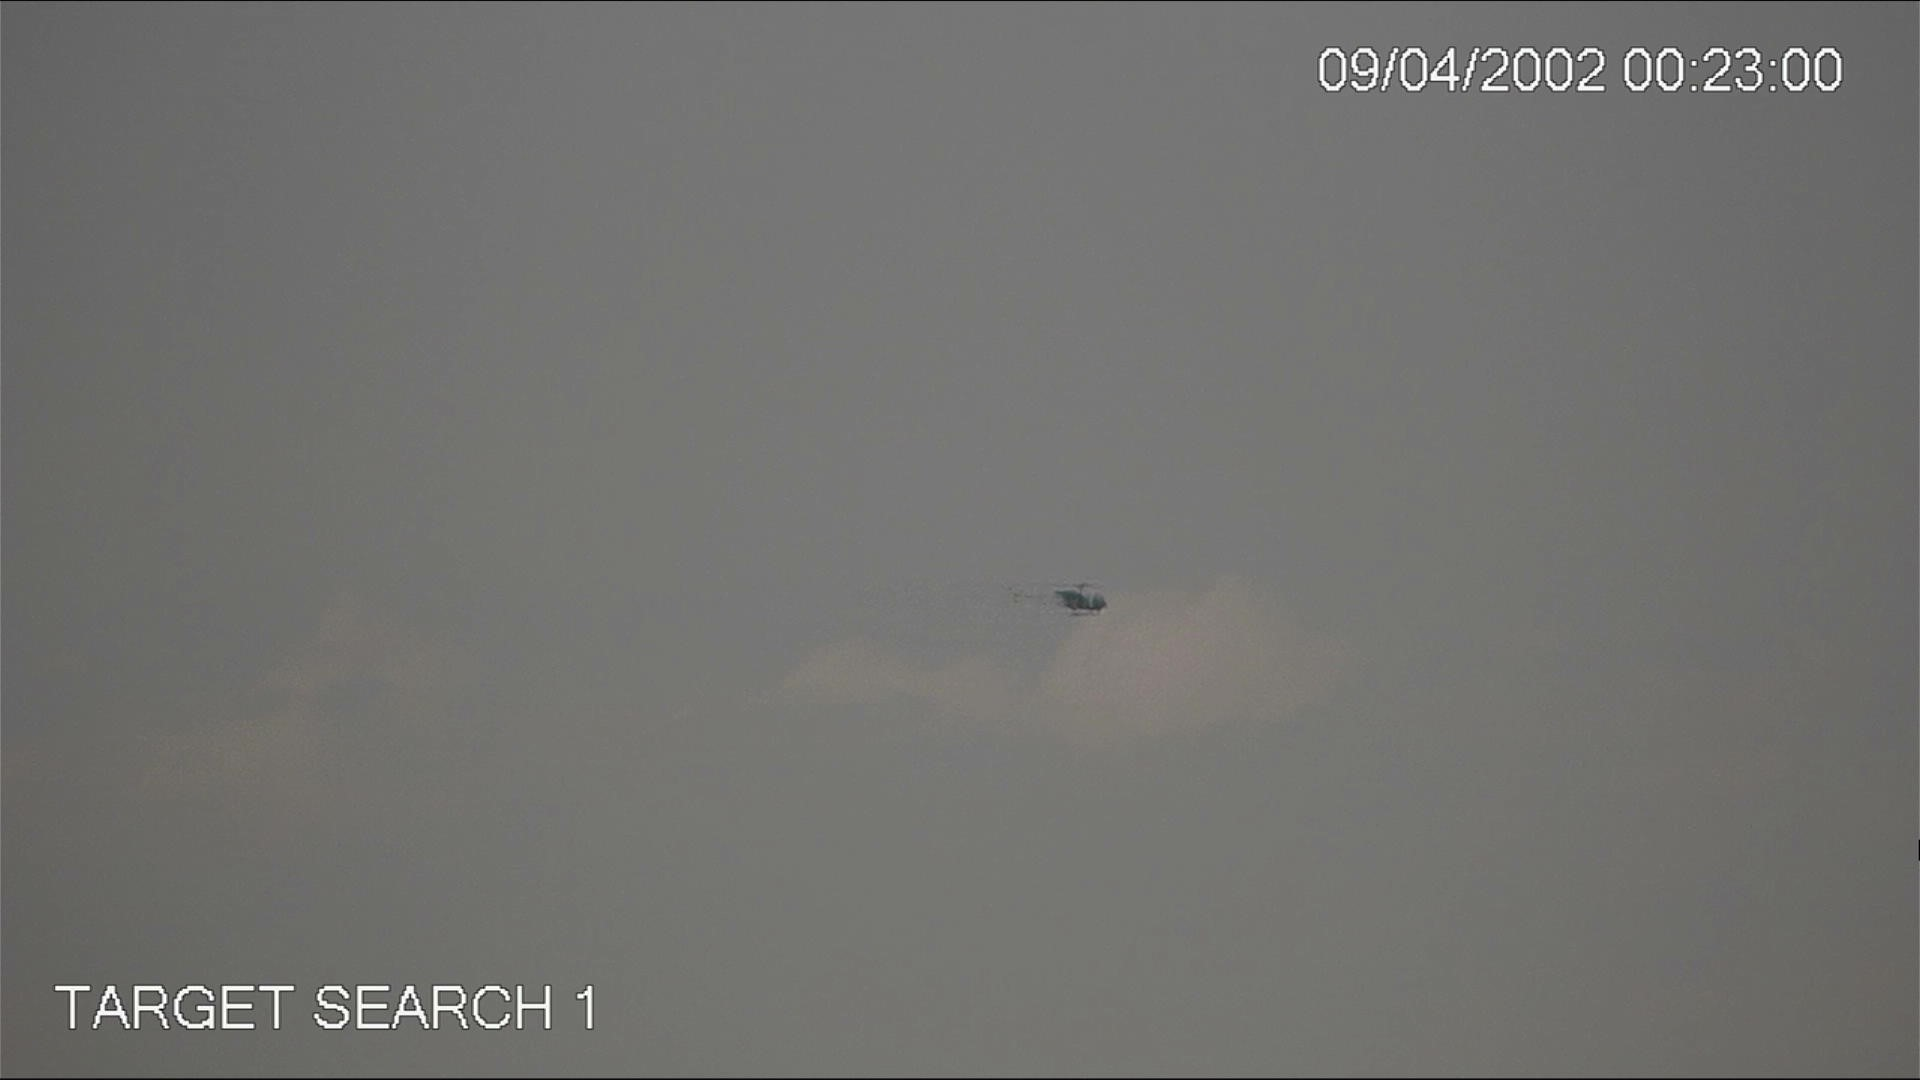SU_30: (1009, 575, 1113, 620)
